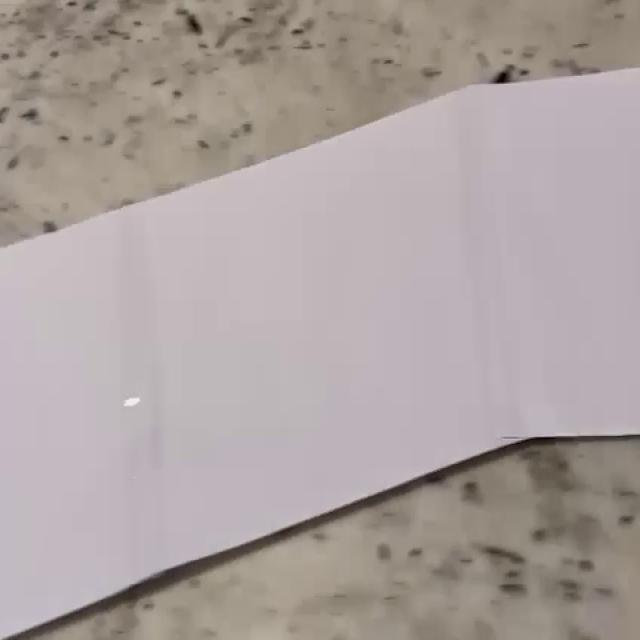road: (0, 69, 640, 637)
